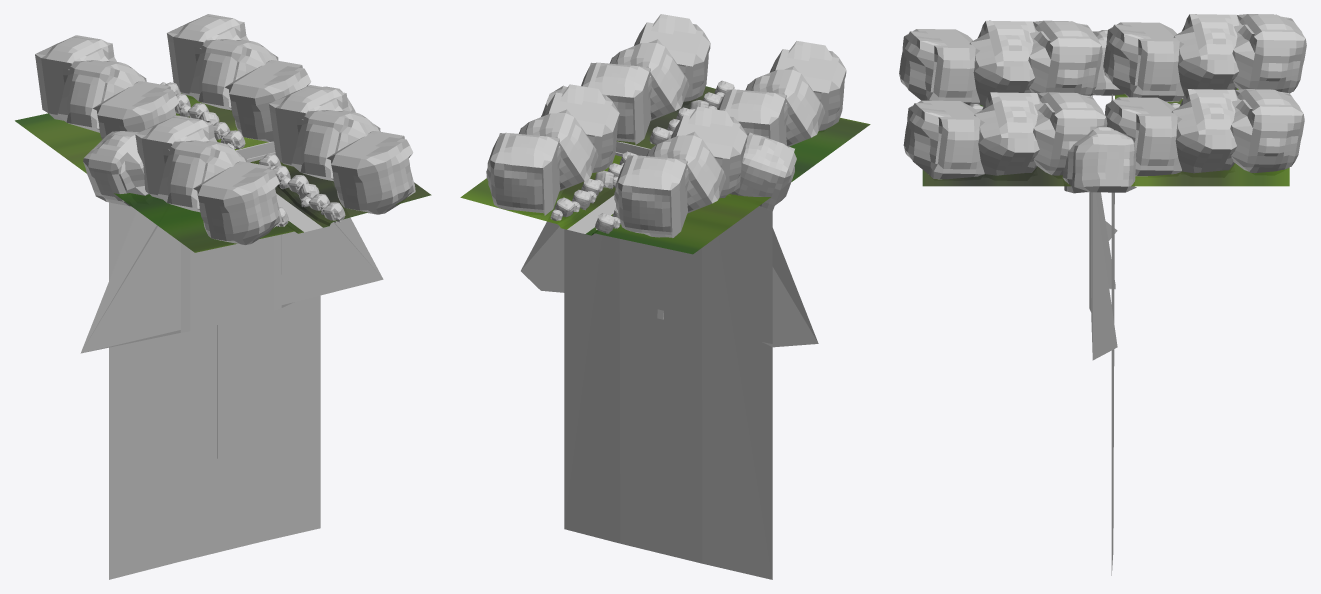
Rendered from bridgeWithRocks2.fbx.
The picture shows the model from 3 angles, left to right: view 1: azimuth 30°, elevation 25°; view 2: azimuth 150°, elevation 25°; view 3: azimuth 270°, elevation 25°; orthographic projection. The views are drawn at different scales.
Parts seen in each view (by area): view 1: Plane.001, Plane, Rock.052, Rock.049, Rock.058, Rock.051, Rock.054, Rock.057, Rock.048, Rock.059, Rock.055, Rock.053 (+3 smaller); view 2: Plane.001, Plane, Rock.053, Rock.056, Rock.047, Rock.059, Rock.052, Rock.058, Rock.049, Rock.055, Rock.048, Rock.054 (+3 smaller); view 3: Rock.049, Rock.055, Rock.056, Rock.052, Rock.053, Rock.050, Rock.057, Plane.001, Rock.048, Rock.054, Rock.058, Plane (+4 smaller).
Part boxes in pixels (x1,y1,x2,y2): Plane.001: (80,141,383,579); Plane: (15,93,431,252); Rock.052: (193,161,281,245); Rock.049: (327,131,415,214); Rock.058: (225,60,311,141); Rock.051: (158,140,246,212); Rock.054: (57,60,146,132); Rock.057: (189,39,278,110); Rock.048: (291,110,380,181); Rock.059: (83,131,148,206); Rock.055: (93,81,179,139); Rock.053: (35,35,116,120); Plane.001: (521,141,818,579); Plane: (460,86,870,254); Rock.053: (614,155,688,237); Rock.056: (486,132,560,215); Rock.047: (581,62,651,144); Rock.059: (730,132,796,211); Rock.052: (769,41,846,130); Rock.058: (543,84,619,172); Rock.049: (634,14,710,101); Rock.055: (671,106,747,198); Rock.048: (609,39,689,120); Rock.054: (646,131,725,213); Rock.049: (903,100,984,179); Rock.055: (1103,22,1183,102); Rock.056: (1230,89,1304,173); Rock.052: (899,29,980,105); Rock.053: (1232,14,1306,93); Rock.050: (1028,20,1102,96); Rock.057: (1171,89,1237,173); Plane.001: (1089,94,1117,575); Rock.048: (974,92,1039,175); Rock.054: (1173,14,1239,98); Rock.058: (1105,97,1181,176); Plane: (922,88,1289,186).
Bounding box in the file's own units: 9683 × 14471 × 11116.
